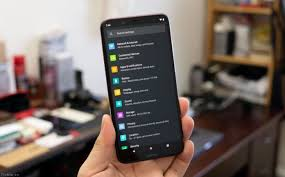nokia: (98, 11, 189, 166)
